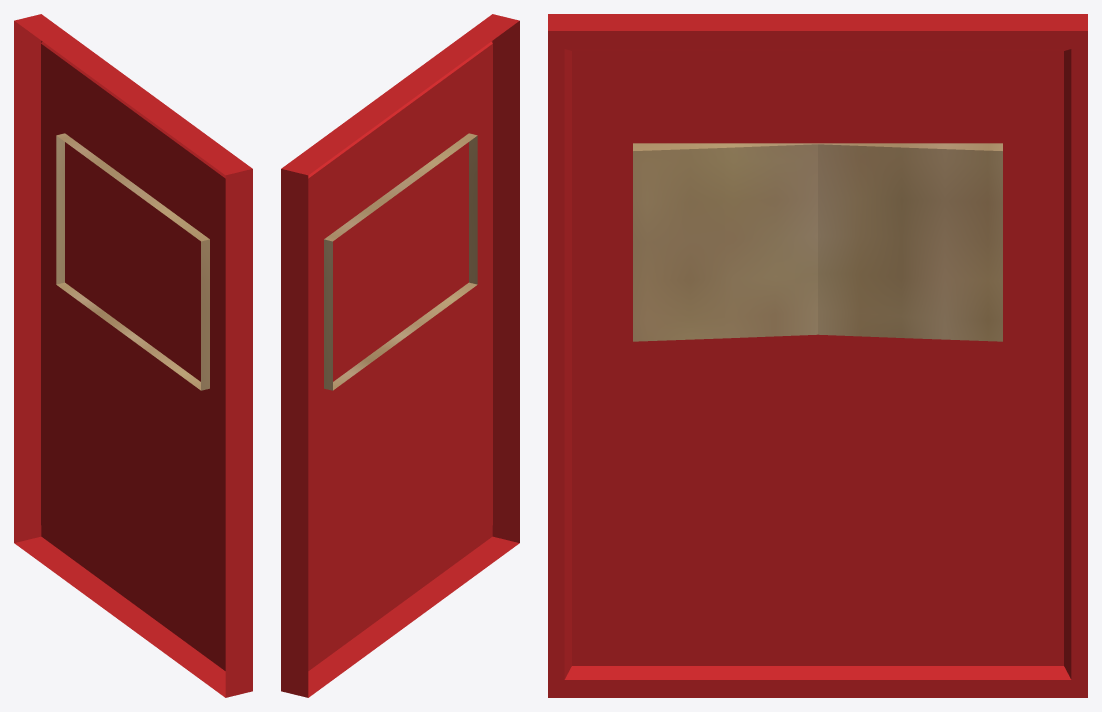
Rendered from MOD_ELE_Light_switch_01.fbx.
3 renders of one model, left to right at view 1: azimuth 30°, elevation 25°; view 2: azimuth 150°, elevation 25°; view 3: azimuth 270°, elevation 25°, orthographic. The views are drawn at different scales.
Parts seen in each view (by area): view 1: HSHP_MOD_Light_switch_01, HSHP_MOD_Light_switch_01_Button_01; view 2: HSHP_MOD_Light_switch_01, HSHP_MOD_Light_switch_01_Button_01; view 3: HSHP_MOD_Light_switch_01, HSHP_MOD_Light_switch_01_Button_01.
Boxes of the visible parts, x1,y1,x2,y2 form: HSHP_MOD_Light_switch_01: (14, 14, 252, 697); HSHP_MOD_Light_switch_01_Button_01: (56, 133, 209, 390); HSHP_MOD_Light_switch_01: (281, 14, 519, 697); HSHP_MOD_Light_switch_01_Button_01: (324, 133, 477, 390); HSHP_MOD_Light_switch_01: (548, 14, 1087, 697); HSHP_MOD_Light_switch_01_Button_01: (633, 143, 1002, 341).
Bounding box in the file's own units: 0.00571 × 0.0936 × 0.0687.
